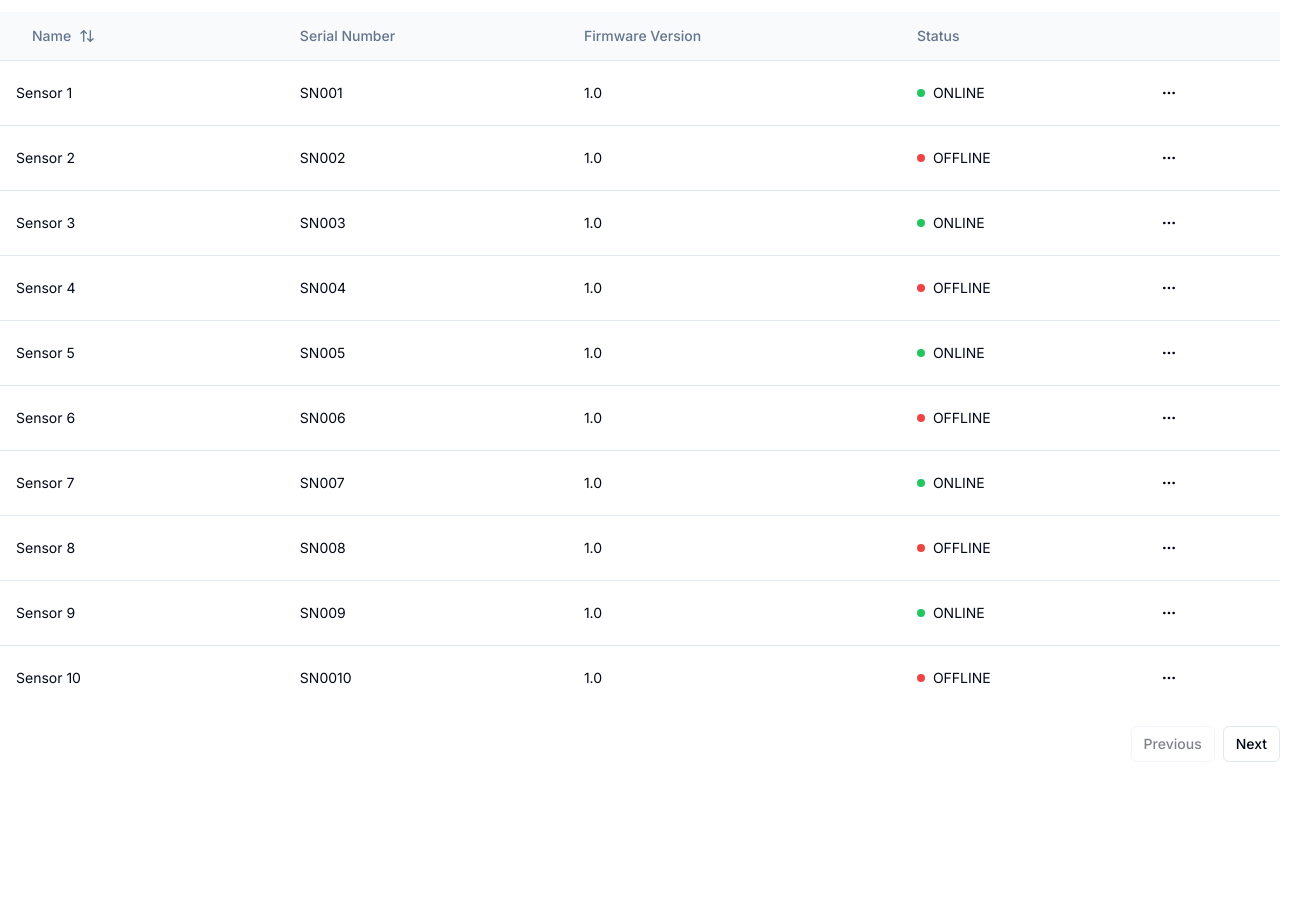
Test: SensorsTable › handles pagination correctly
Expected: the text "Sensor 1" is shown, [0,60,284,125]
Expected: the text "Sensor 11" is not shown
Click the button "Next": (1251, 744) [1223,726,1280,762]
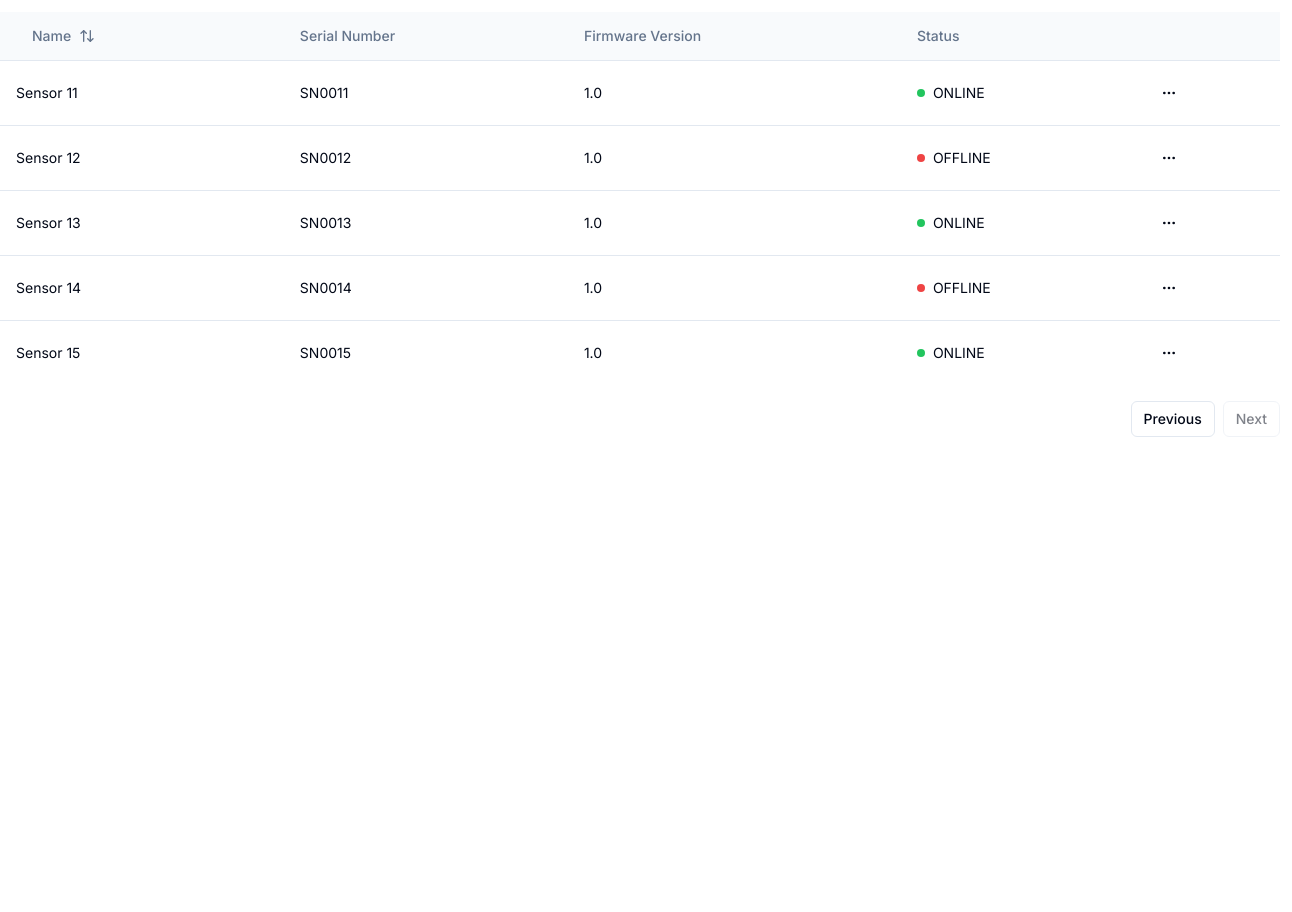
Now the text "Sensor 11" is shown, box [0,60,284,125]
